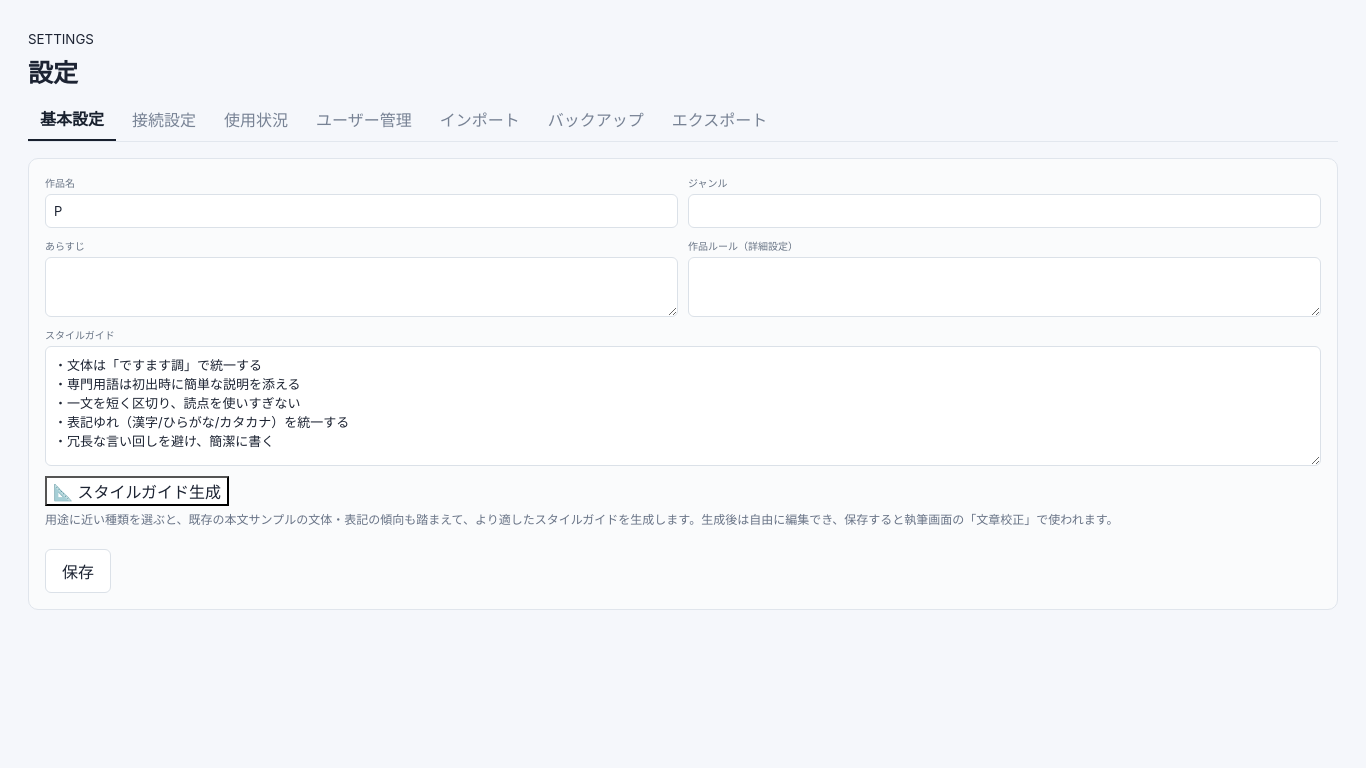
Test: SettingsPanel style guide › asks for a citation style before generating an academic-category guide
Click the button "📐 スタイルガイド生成": (137, 491) top-left (45, 476), bottom-right (229, 506)
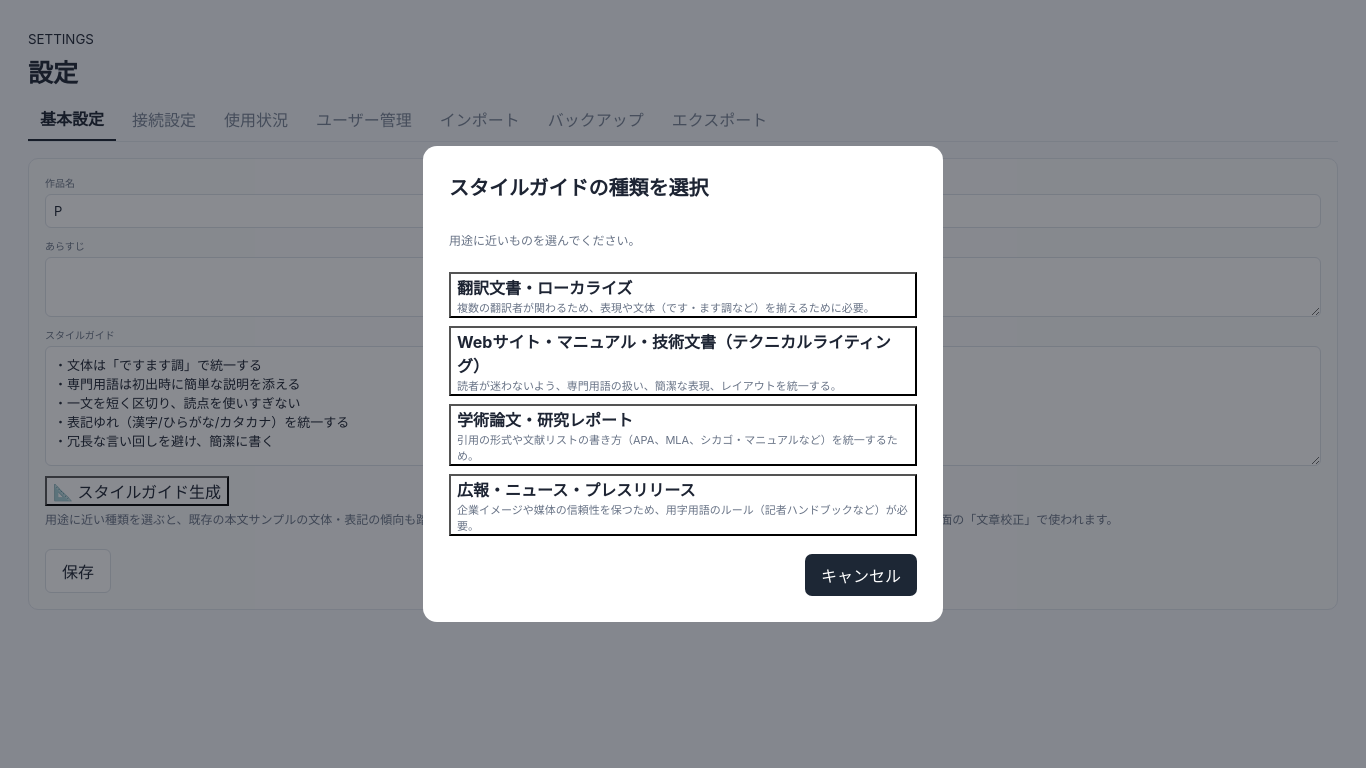
Click the text "学術論文・研究レポート": (545, 420) top-left (457, 410), bottom-right (633, 430)
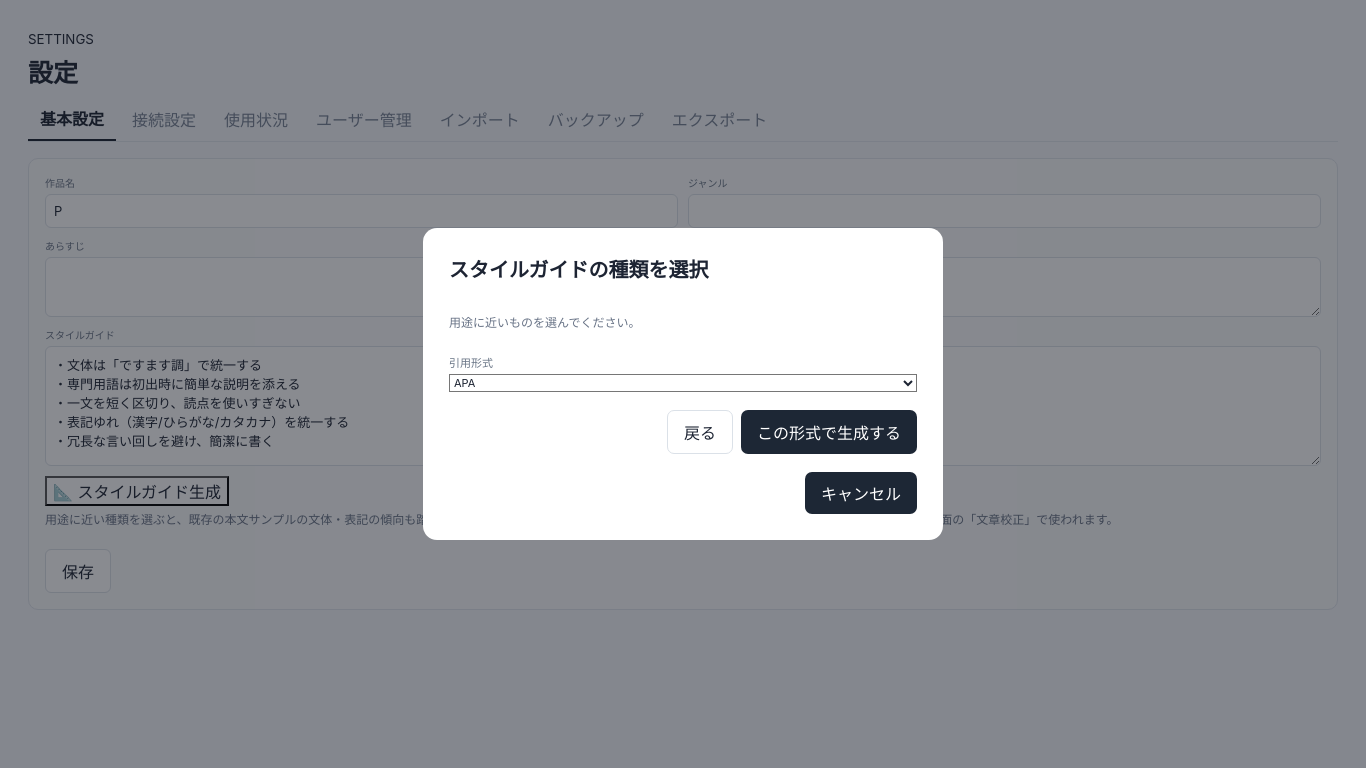
Select "MLA" in the dropdown: (683, 383) top-left (449, 374), bottom-right (917, 392)
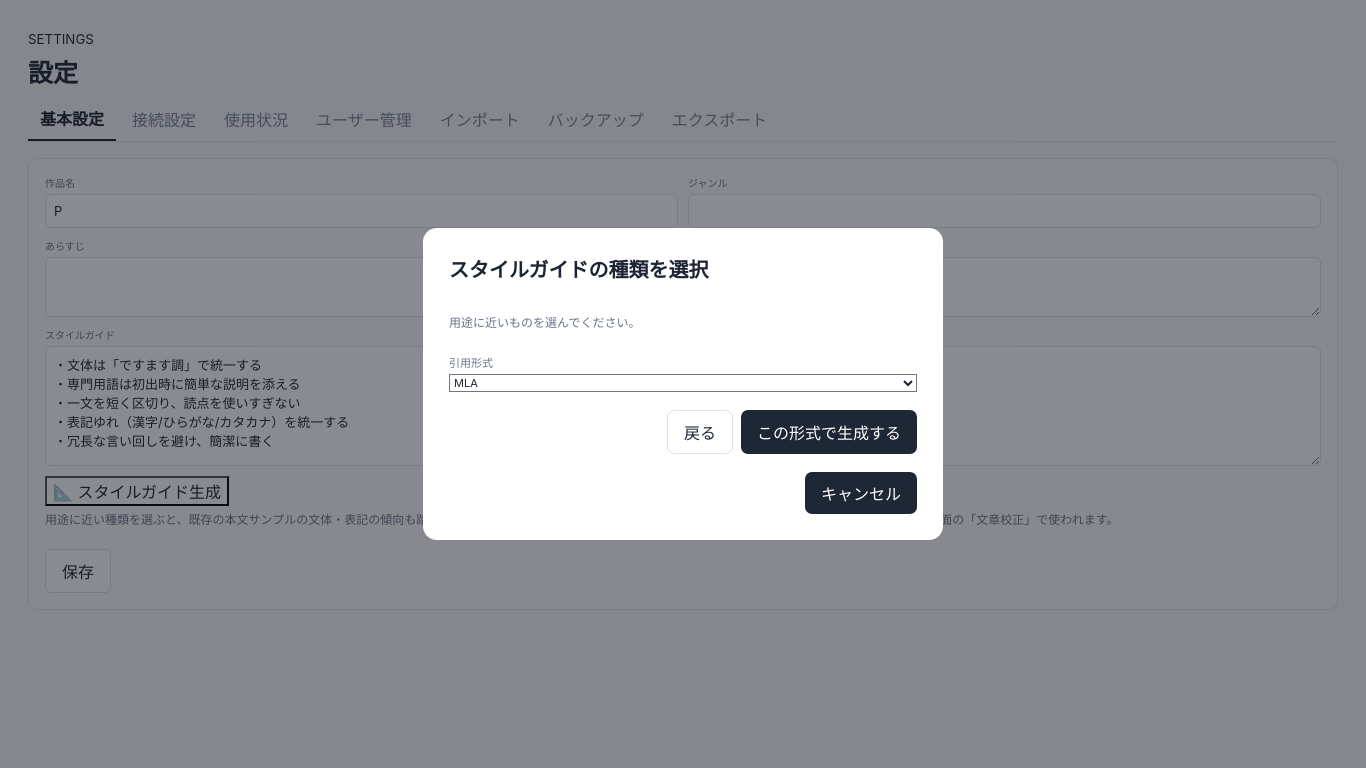
Click the button "この形式で生成する": (829, 432) top-left (741, 410), bottom-right (917, 454)
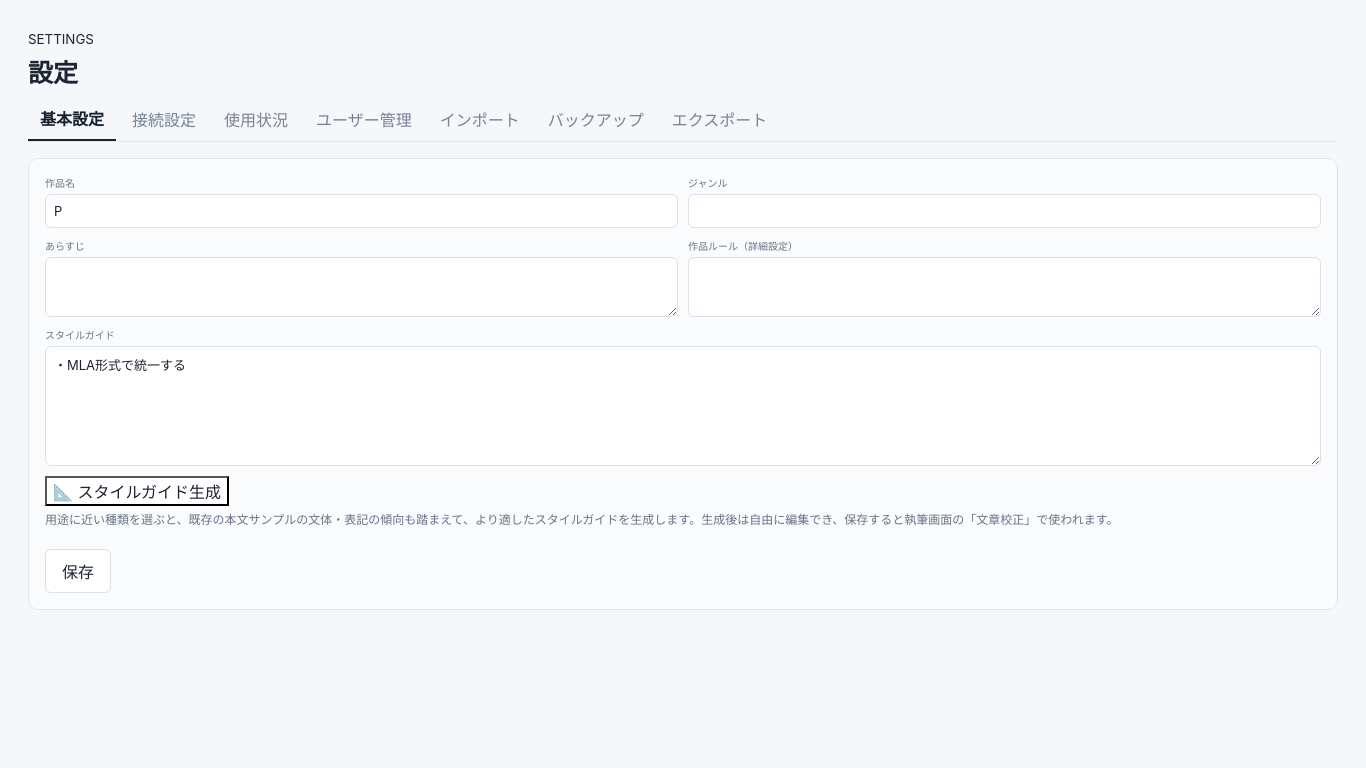
Result: the text box with placeholder "「スタイルガイド生成」で作成するか、直接入力してください。" holds "・MLA形式で統一する" at top-left (45, 346), bottom-right (1321, 466)
